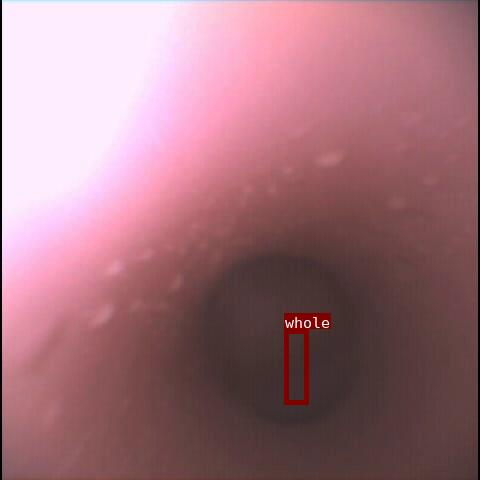whole: (284, 329, 308, 404)
